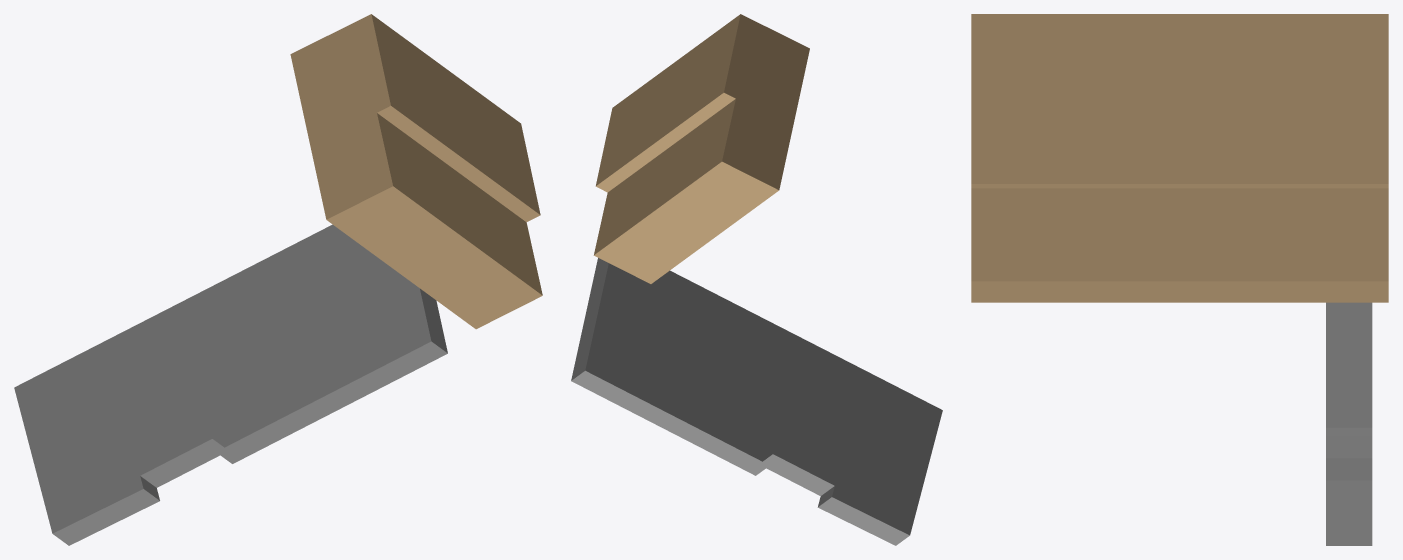
The picture shows the model from 3 angles, left to right: view 1: azimuth 30°, elevation 25°; view 2: azimuth 150°, elevation 25°; view 3: azimuth 270°, elevation 25°; orthographic projection. The views are drawn at different scales.
Visible parts, largest first — view 1: 0_3_2_3_2_1_1_2_3; view 2: 0_3_2_3_2_1_1_2_3; view 3: 0_3_2_3_2_1_1_2_3.
Boxes of the visible parts, left/top/right/bottom form: 0_3_2_3_2_1_1_2_3: left=14, top=14, right=542, bottom=545; 0_3_2_3_2_1_1_2_3: left=571, top=14, right=942, bottom=545; 0_3_2_3_2_1_1_2_3: left=971, top=14, right=1388, bottom=545.
Size of the model in its own units: 43.46 by 43.41 by 27.
